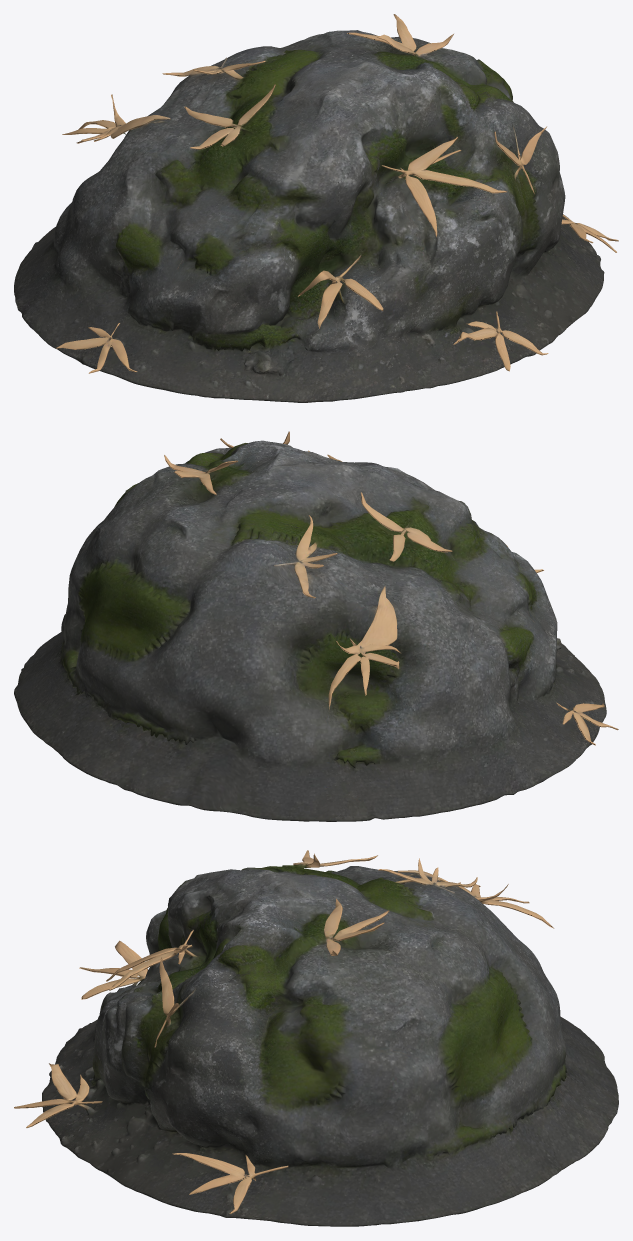
The model's file is mossy_boulder.glb.
3 views of the same model, one above another, from view 1: azimuth 30°, elevation 25°; view 2: azimuth 150°, elevation 25°; view 3: azimuth 270°, elevation 25° (orthographic). The views are drawn at different scales.
Visible parts, largest first — view 1: tripo_node_c24f3cef-ee3b-4fd7-8387-7e9be921b7b8; view 2: tripo_node_c24f3cef-ee3b-4fd7-8387-7e9be921b7b8; view 3: tripo_node_c24f3cef-ee3b-4fd7-8387-7e9be921b7b8.
Part boxes in pixels (x1,y1,x2,y2): tripo_node_c24f3cef-ee3b-4fd7-8387-7e9be921b7b8: (14,14,618,402); tripo_node_c24f3cef-ee3b-4fd7-8387-7e9be921b7b8: (14,431,618,821); tripo_node_c24f3cef-ee3b-4fd7-8387-7e9be921b7b8: (14,850,618,1226).
Size of the model in its own units: 1 by 0.412 by 0.9563.
Materials: 1 (1 with a texture image).
